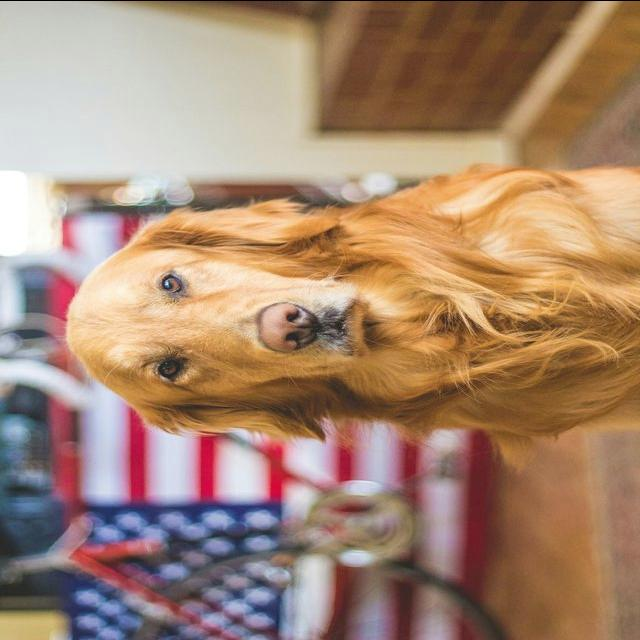retriever: (63, 161, 638, 469)
